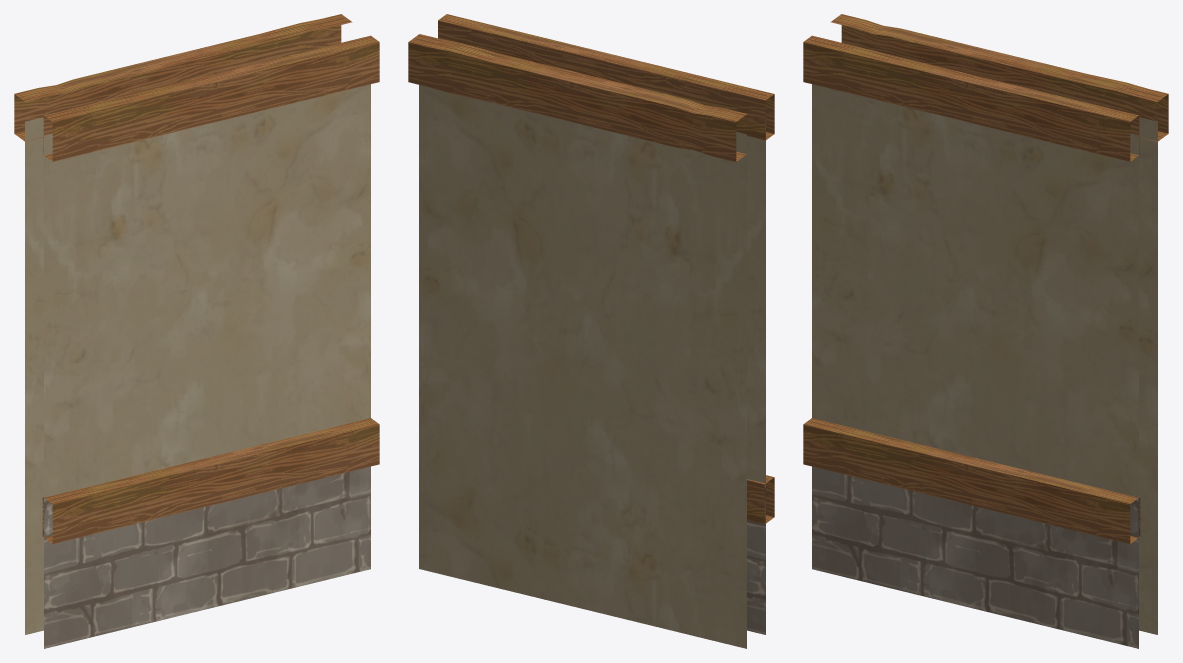
Rendered from Wall_Plaster_Straight_Base.glb.
3 views of the same model, side by side, from view 1: azimuth 30°, elevation 25°; view 2: azimuth 150°, elevation 25°; view 3: azimuth 330°, elevation 25° (orthographic).
Parts seen in each view (by area): view 1: Wall_Plaster_Straight_Base; view 2: Wall_Plaster_Straight_Base; view 3: Wall_Plaster_Straight_Base.
Boxes of the visible parts, <box> form: Wall_Plaster_Straight_Base: <box>14,14,379,648</box>; Wall_Plaster_Straight_Base: <box>408,14,774,648</box>; Wall_Plaster_Straight_Base: <box>803,14,1168,648</box>.
Size of the model in its own units: 2 by 3.12 by 0.4064.
3 materials, 3 textured.
